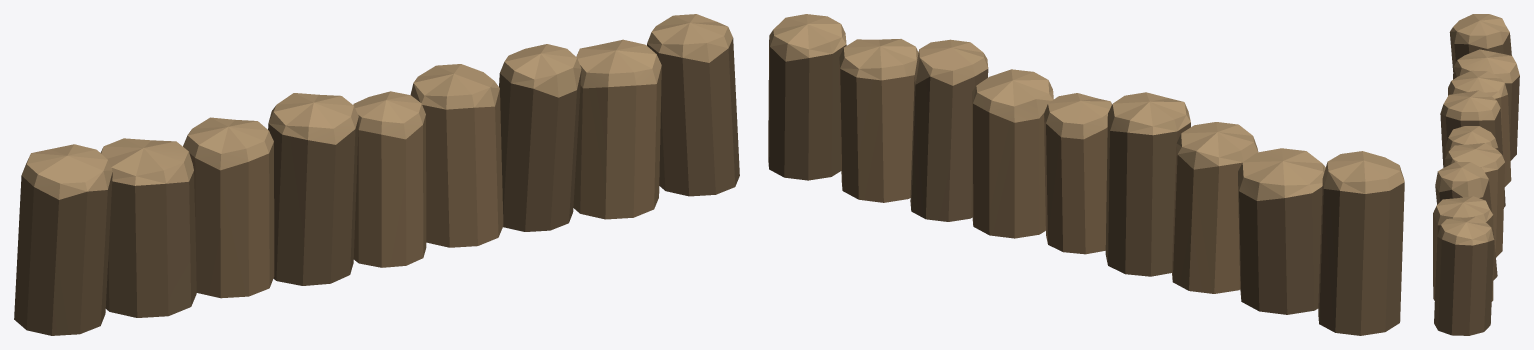
The model's file is Camino_Troncos.glb.
The picture shows the model from 3 angles, left to right: view 1: azimuth 30°, elevation 25°; view 2: azimuth 150°, elevation 25°; view 3: azimuth 270°, elevation 25°; orthographic projection. The views are drawn at different scales.
Parts seen in each view (by area): view 1: SM_Env_Path_Wood_Side_01_1; view 2: SM_Env_Path_Wood_Side_01_1; view 3: SM_Env_Path_Wood_Side_01_1.
Boxes of the visible parts, x1,y1,x2,y2 form: SM_Env_Path_Wood_Side_01_1: (14, 14, 739, 335); SM_Env_Path_Wood_Side_01_1: (768, 14, 1404, 335); SM_Env_Path_Wood_Side_01_1: (1433, 14, 1519, 335).
Size of the model in its own units: 3.75 by 0.8616 by 0.6218.
Materials: 1 (1 with a texture image).
